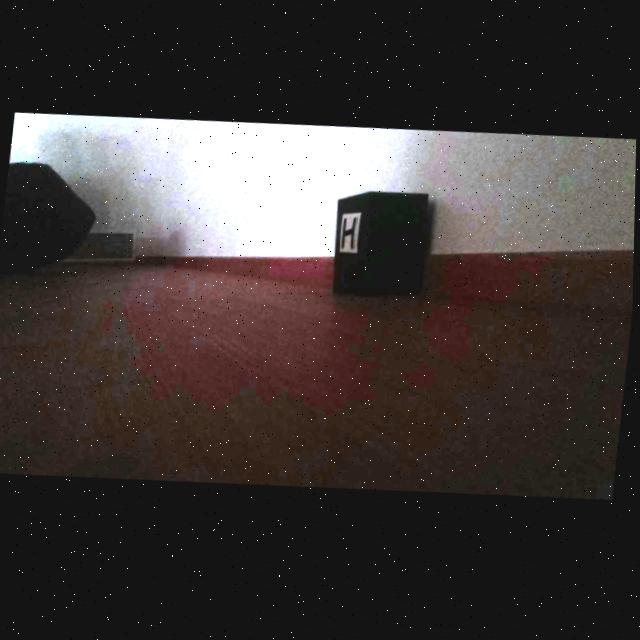H: (343, 220, 358, 253)
